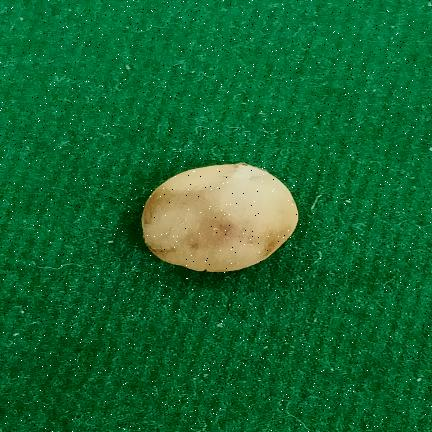parchment: (142, 163, 298, 272)
